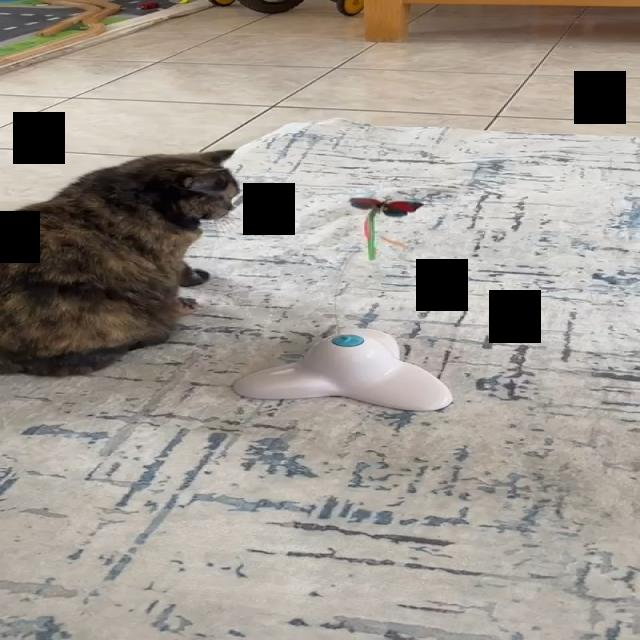authorized: (0, 148, 240, 377)
